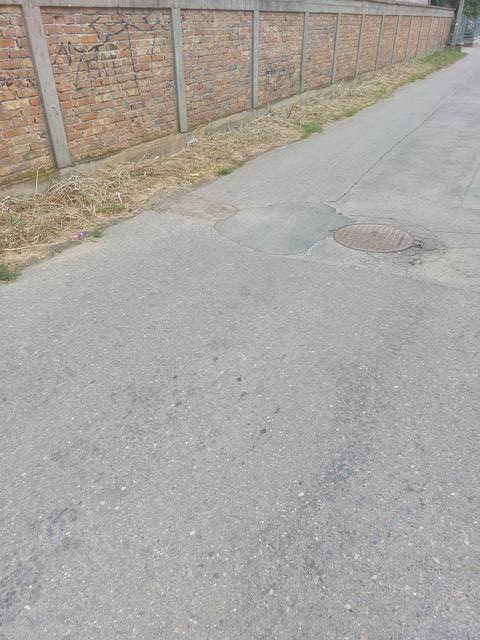pothole: (331, 205, 442, 269)
